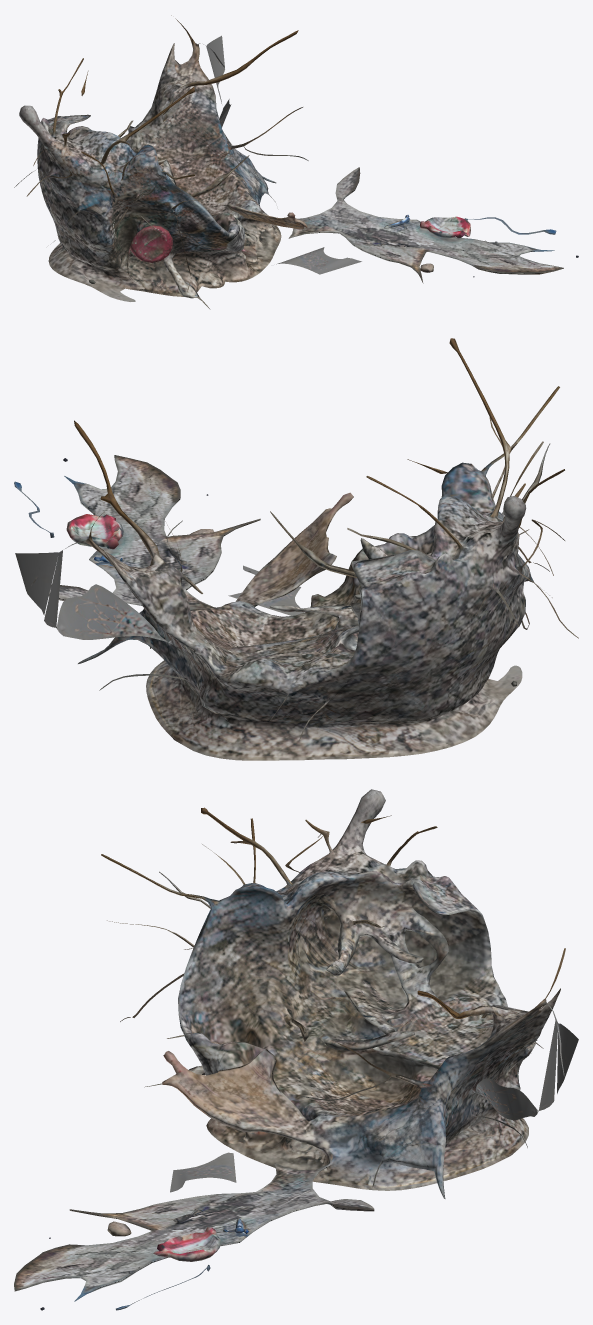
File: branch_debris_3d_model.fbx
3 renders of one model, top to bottom at view 1: azimuth 30°, elevation 25°; view 2: azimuth 150°, elevation 25°; view 3: azimuth 270°, elevation 25°, orthographic. The views are drawn at different scales.
Visible parts, largest first — view 1: tripo_node_1cd9a1f6; view 2: tripo_node_1cd9a1f6; view 3: tripo_node_1cd9a1f6.
Boxes of the visible parts, x1,y1,x2,y2 form: tripo_node_1cd9a1f6: (14, 15, 578, 309); tripo_node_1cd9a1f6: (14, 338, 578, 760); tripo_node_1cd9a1f6: (14, 789, 578, 1310).
Bounding box in the file's own units: 0.9995 × 0.4536 × 0.7876.
